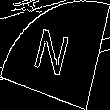N_S: (32, 24, 78, 86)
